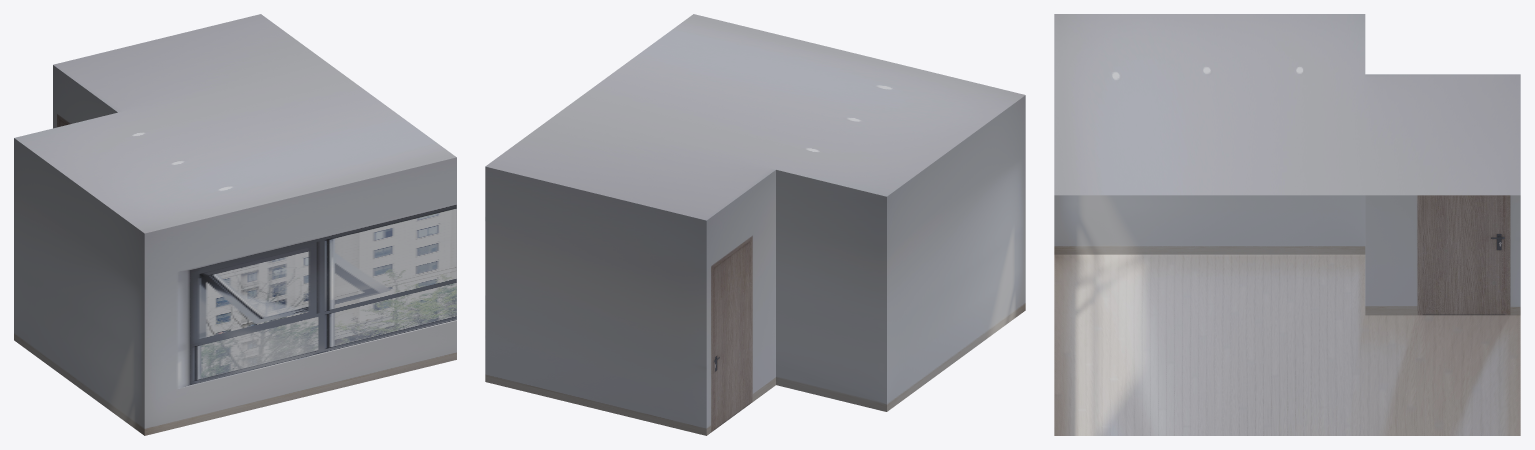
File: ROOM_009.glb
3 views of the same model, side by side, from view 1: azimuth 30°, elevation 25°; view 2: azimuth 150°, elevation 25°; view 3: azimuth 270°, elevation 25° (orthographic). The views are drawn at different scales.
Visible parts, largest first — view 1: wall_left_01, roof, wall_bottom_02, wall_bottom_01; view 2: roof, wall_right_01, wall_bottom_02, wall_right_02, wall_bottom_01; view 3: roof, floor, wall_bottom_01, wall_bottom_02.
Boxes of the visible parts, x1,y1,x2,y2 form: wall_left_01: [144, 157, 456, 435]; roof: [14, 14, 456, 233]; wall_bottom_02: [14, 138, 144, 435]; wall_bottom_01: [53, 65, 117, 128]; roof: [485, 14, 1025, 220]; wall_right_01: [485, 166, 706, 435]; wall_bottom_02: [887, 95, 1025, 411]; wall_right_02: [776, 170, 886, 411]; wall_bottom_01: [706, 170, 775, 435]; roof: [1054, 14, 1520, 195]; floor: [1054, 254, 1520, 435]; wall_bottom_01: [1365, 195, 1520, 315]; wall_bottom_02: [1054, 195, 1365, 254].
Bounding box in the file's own units: 4.6 × 2.85 × 5.
1 material, 1 textured.
